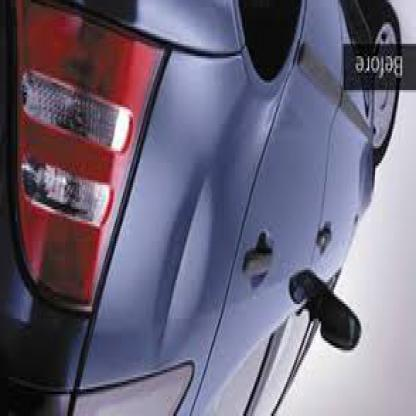dent: (160, 188, 214, 346)
